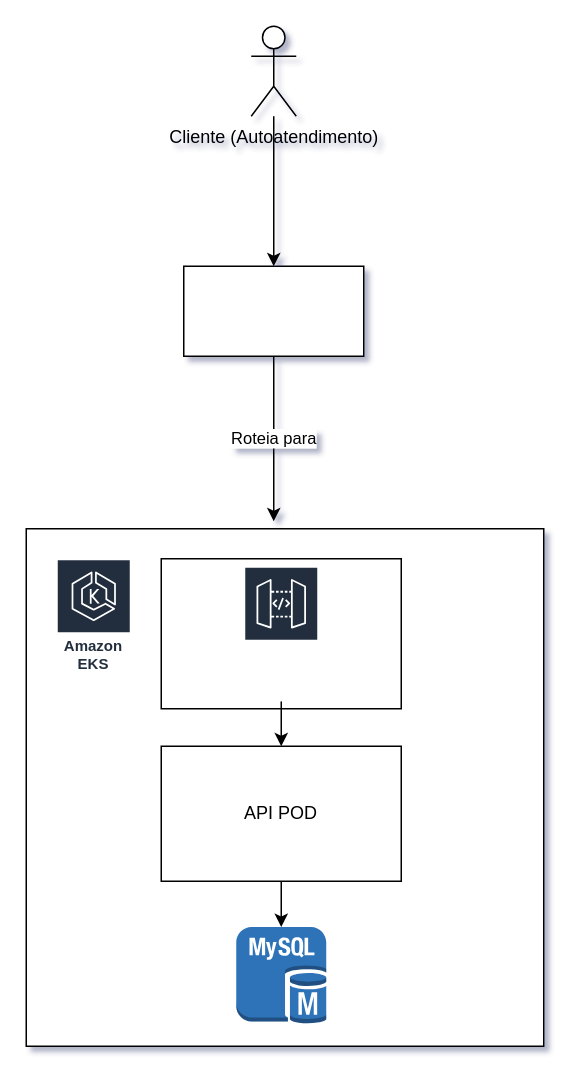
This 579x1082 diagram has some shape labels left out. The box of each missing label's shape, as (x1, y1, x2, y2) in pixels:
Amazon API Gateway: (242, 565, 319, 701)
Ingress Controller: (182, 265, 364, 356)
